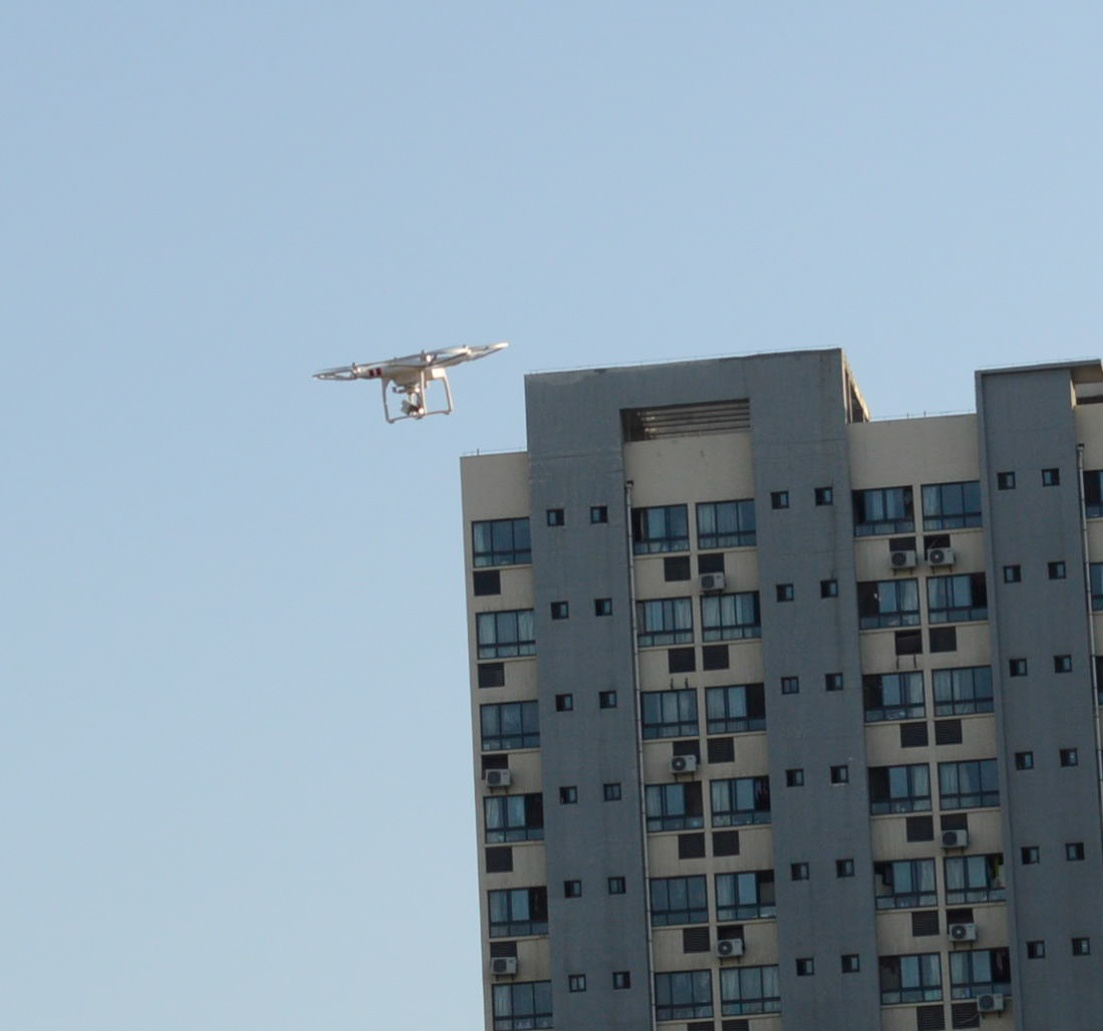DJI: (316, 342, 514, 425)
